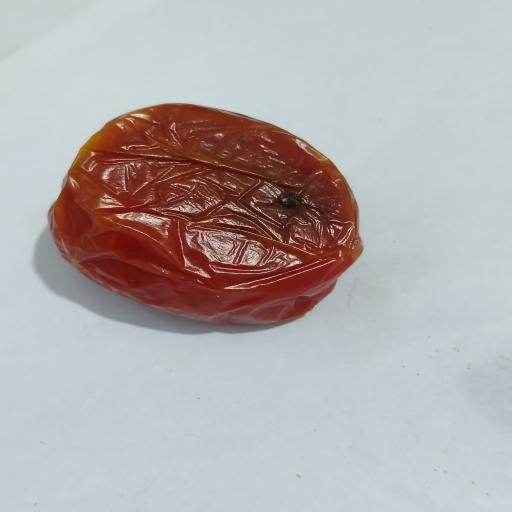ripe: (52, 104, 362, 324)
